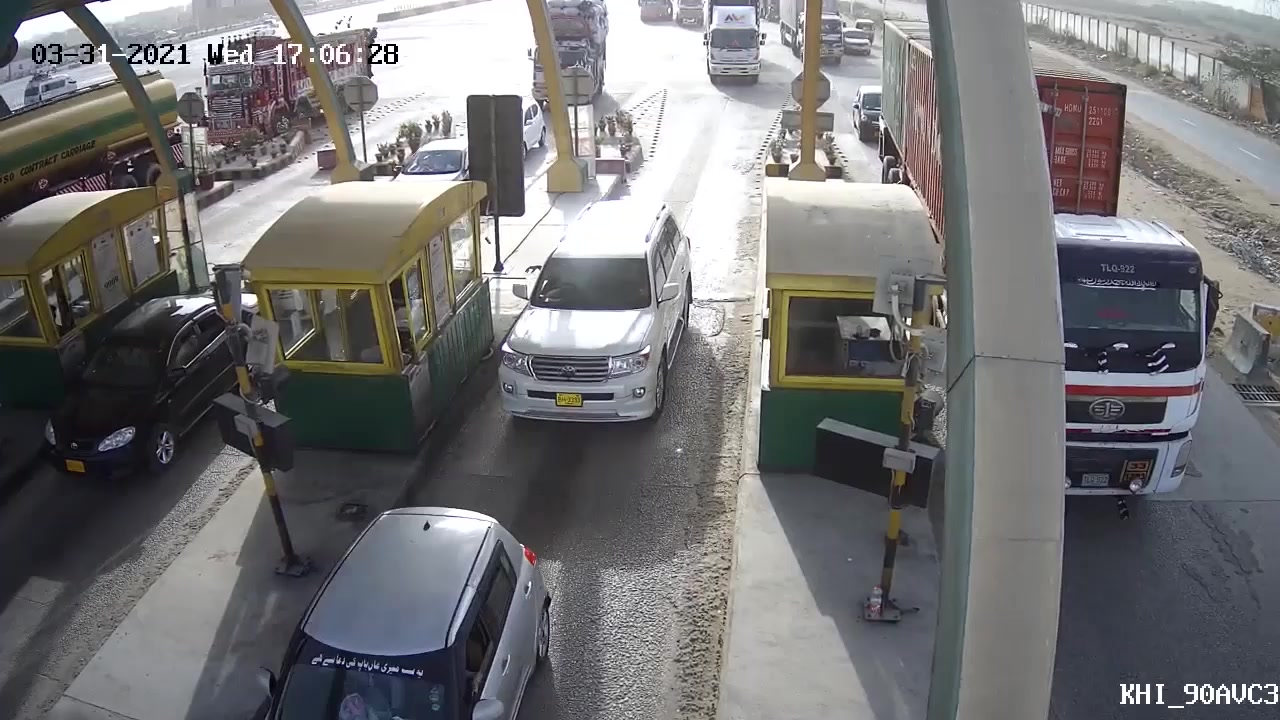F1: (482, 190, 700, 438)
